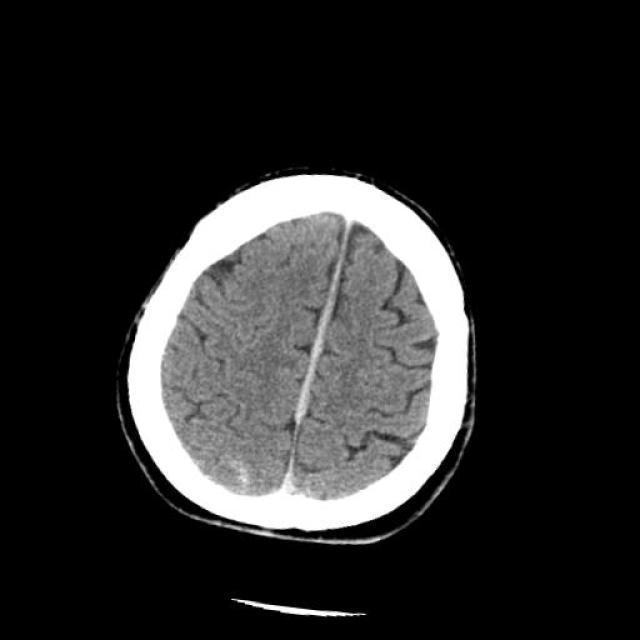Subarachnoid: (215, 455, 270, 506)
Subdural: (270, 265, 360, 434)
